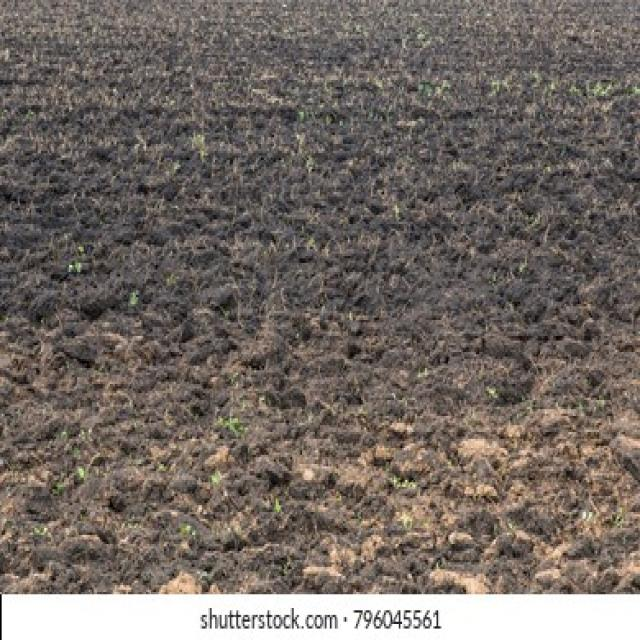Black Soil: (15, 46, 612, 362)
